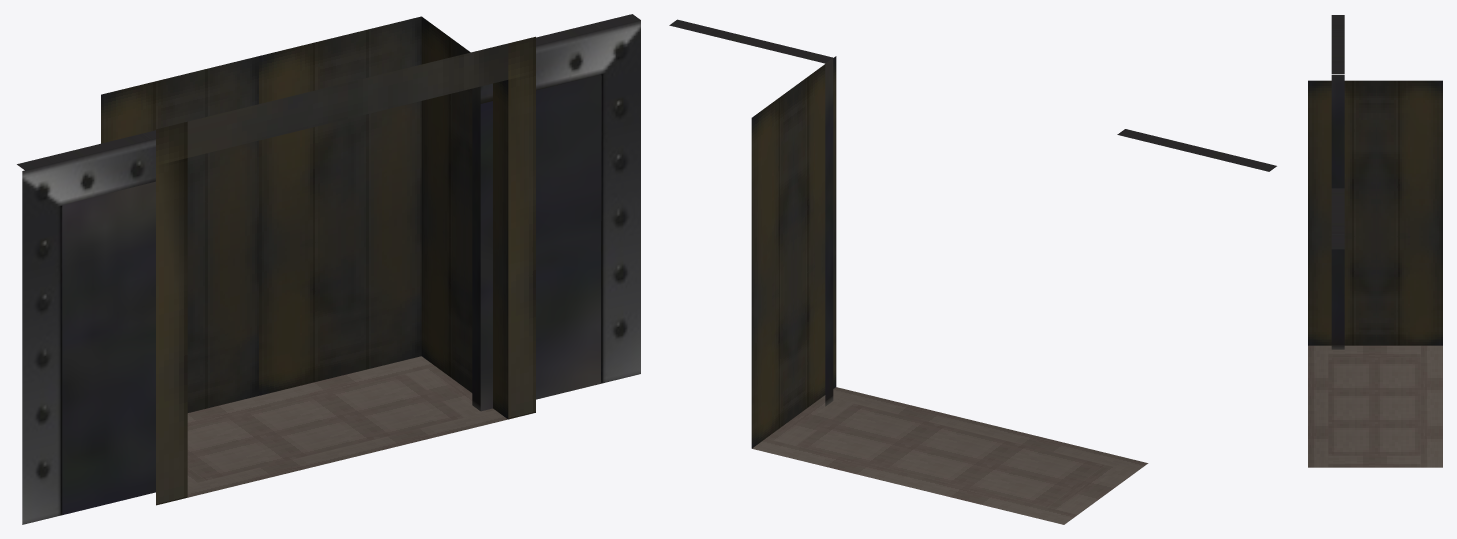
File: mint_elevator.glb
3 views of the same model, side by side, from view 1: azimuth 30°, elevation 25°; view 2: azimuth 150°, elevation 25°; view 3: azimuth 270°, elevation 25° (orthographic). The views are drawn at different scales.
Visible parts, largest first — view 1: elevator, left_door, right_door, ground; view 2: elevator, ground, right_door, left_door; view 3: elevator, ground, left_door, right_door.
Boxes of the visible parts, x1,y1,x2,y2 form: elevator: (101, 16, 535, 505); left_door: (17, 130, 155, 524); right_door: (472, 14, 640, 411); ground: (187, 356, 507, 497); elevator: (751, 56, 836, 448); ground: (752, 387, 1148, 524); right_door: (669, 19, 833, 406); left_door: (1117, 129, 1276, 171); elevator: (1308, 80, 1442, 345); ground: (1308, 345, 1442, 467); left_door: (1331, 15, 1344, 349); right_door: (1331, 188, 1344, 249).
Size of the model in its own units: 24.41 by 14.25 by 5.92.
4 materials, 4 textured.
